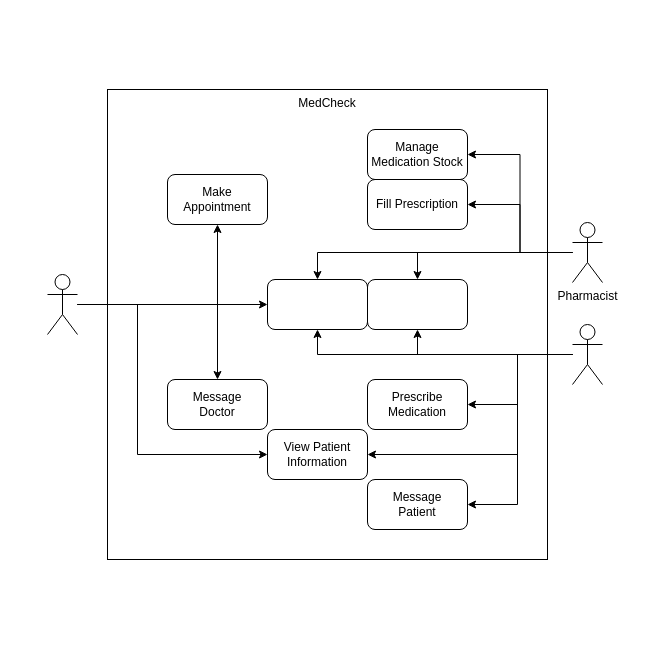
Image size: 649x649. Some labels were removed from this diagram. The box of each missing label's shape, as (x1, y1, x2, y2) in pixels:
Doctor: (572, 324, 602, 384)
Patient: (46, 274, 78, 334)
View Conflict Resolution: (366, 278, 468, 330)
View Product Information: (266, 278, 368, 330)
